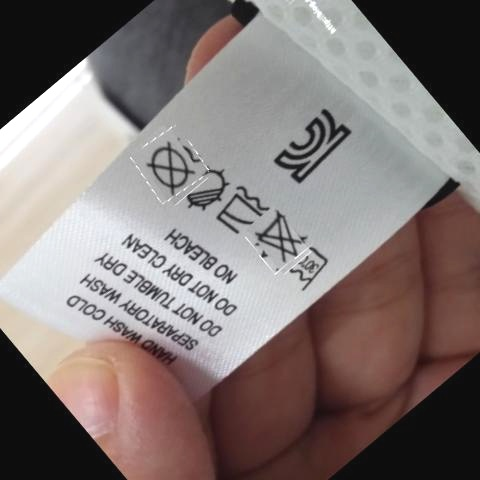30C: (294, 246, 331, 290)
DN_bleach: (259, 214, 301, 258)
DN_dry_clean: (147, 135, 195, 190)
iron: (220, 189, 259, 235)
shade_dry: (185, 165, 230, 210)
